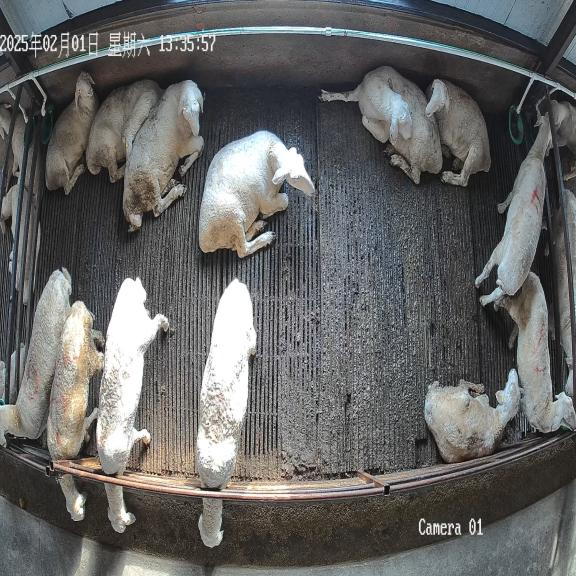drinking: (475, 113, 552, 305)
eating: (96, 278, 169, 533), (196, 279, 256, 547), (47, 301, 105, 521)
lying: (199, 130, 314, 258), (320, 66, 442, 183), (123, 80, 204, 232), (424, 370, 520, 463), (86, 79, 163, 182), (426, 79, 491, 186), (45, 71, 99, 194)
stand: (494, 271, 576, 432), (0, 268, 71, 444)
